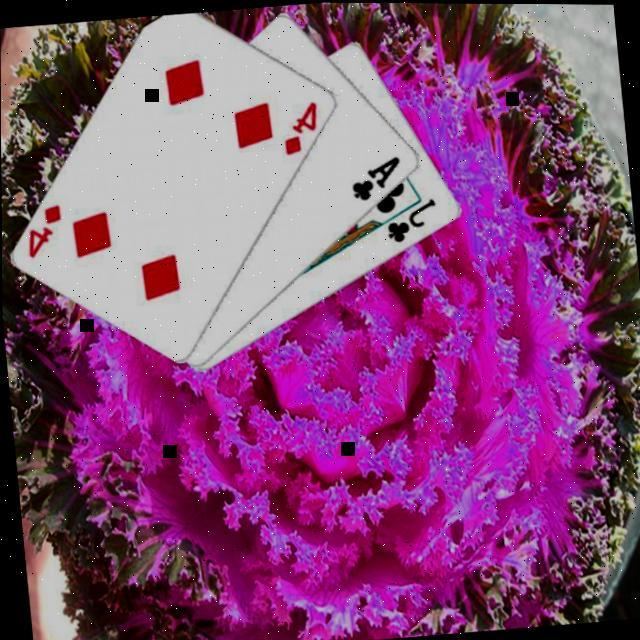4D: (21, 198, 68, 259), (278, 95, 325, 155)
AC: (346, 149, 406, 202)
JC: (382, 191, 443, 244)
